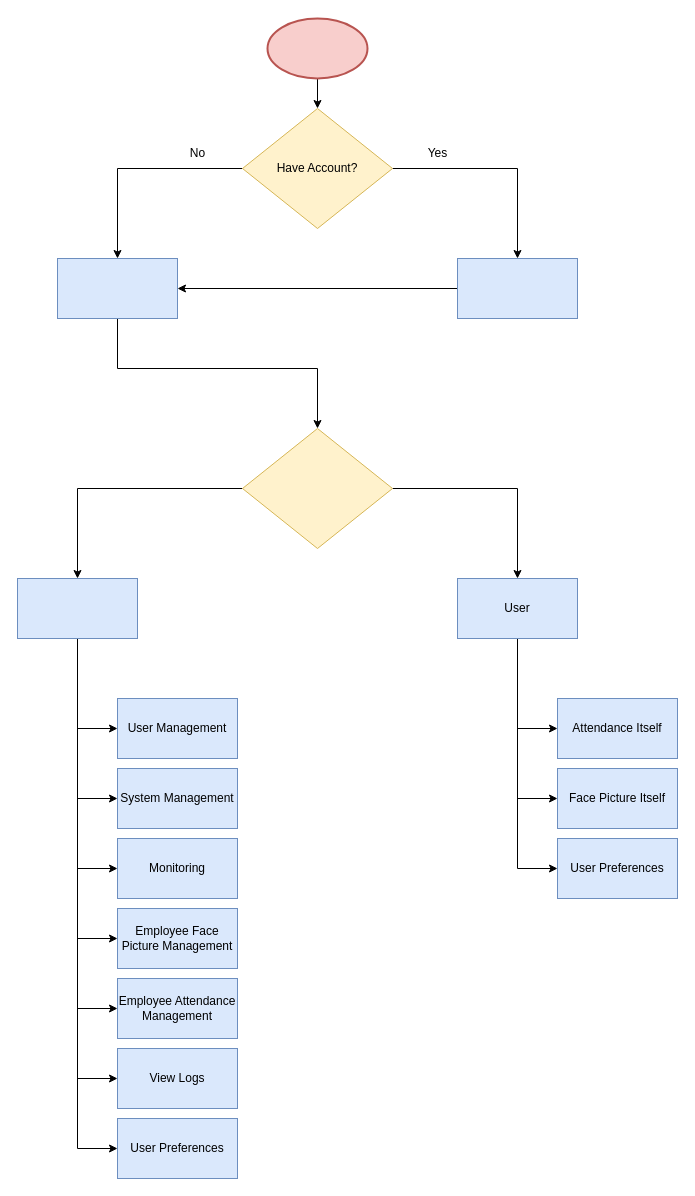
The diagram is 695 pixels wide and 1196 high, and some of its shapes have lost their labels. The shapes that lost their labels are listed below. From the top down, each one's centre as x and y in pixels, then its label:
[317,48]: Guest
[117,288]: Login
[517,288]: Register
[317,488]: Admin or User
[77,608]: Admin
